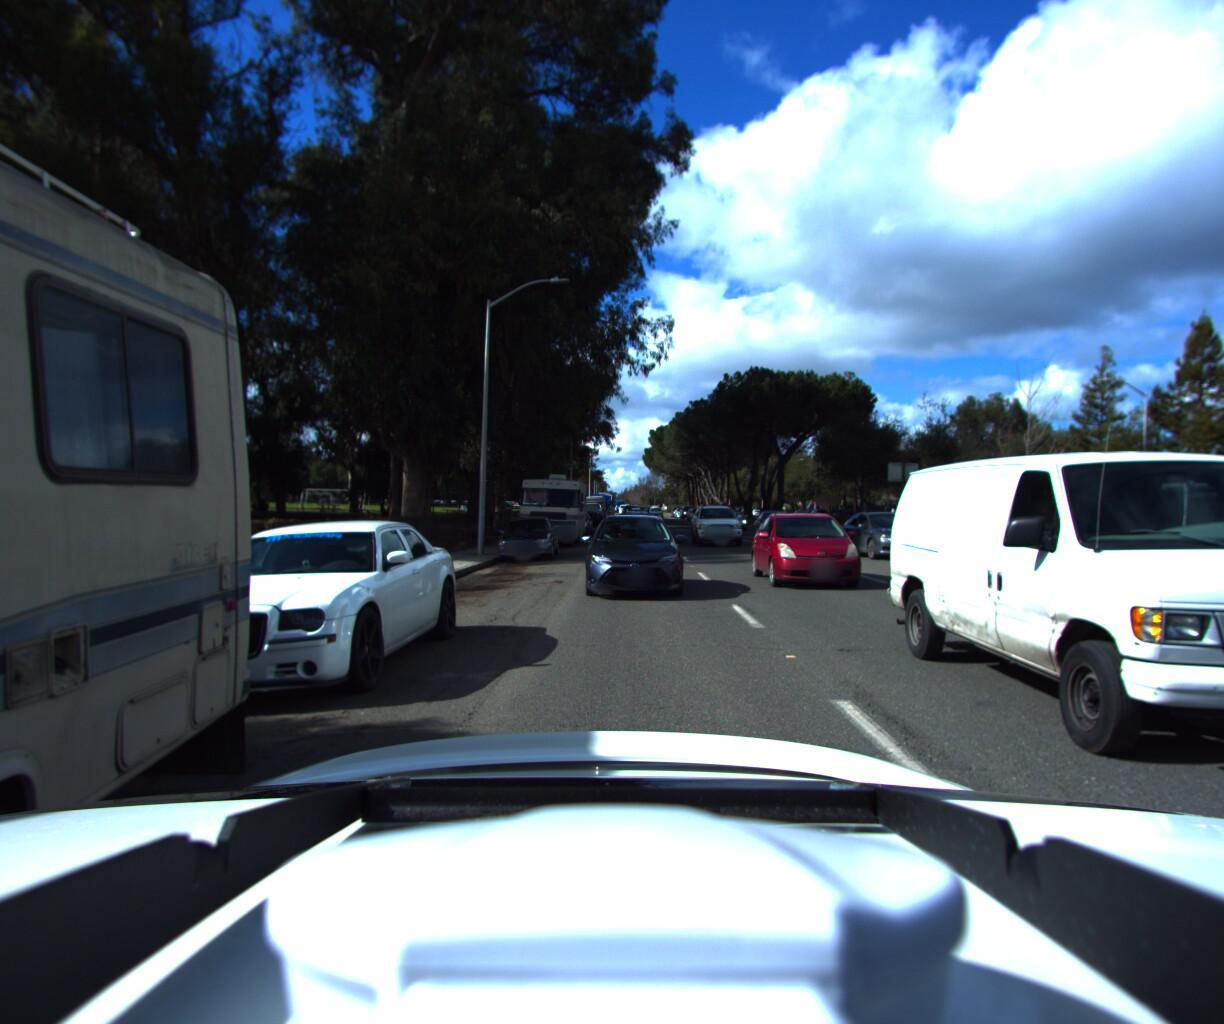car: (884, 393, 1224, 823), (102, 515, 473, 726), (1086, 472, 1224, 646), (751, 502, 884, 602), (584, 509, 693, 610), (515, 472, 592, 551), (831, 511, 934, 565), (495, 517, 567, 579), (693, 505, 748, 552), (613, 508, 657, 550)
other_vehicle: (575, 496, 610, 531)
